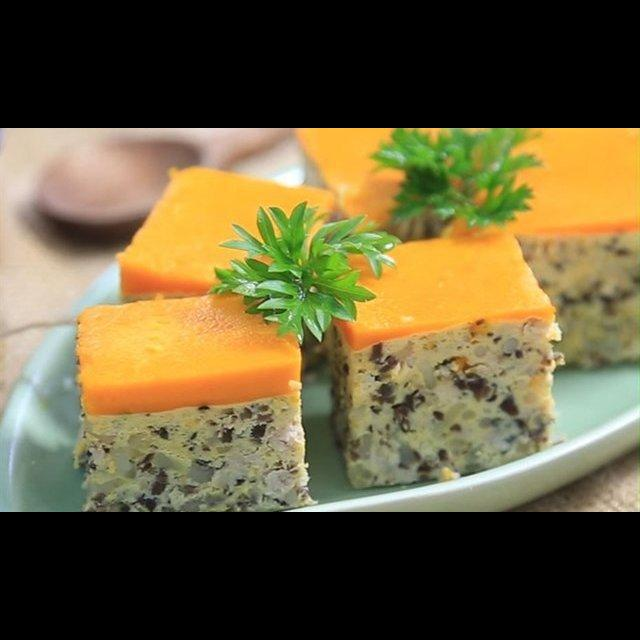cha: (290, 129, 640, 385), (321, 221, 572, 497), (69, 285, 321, 512), (110, 161, 341, 321)
